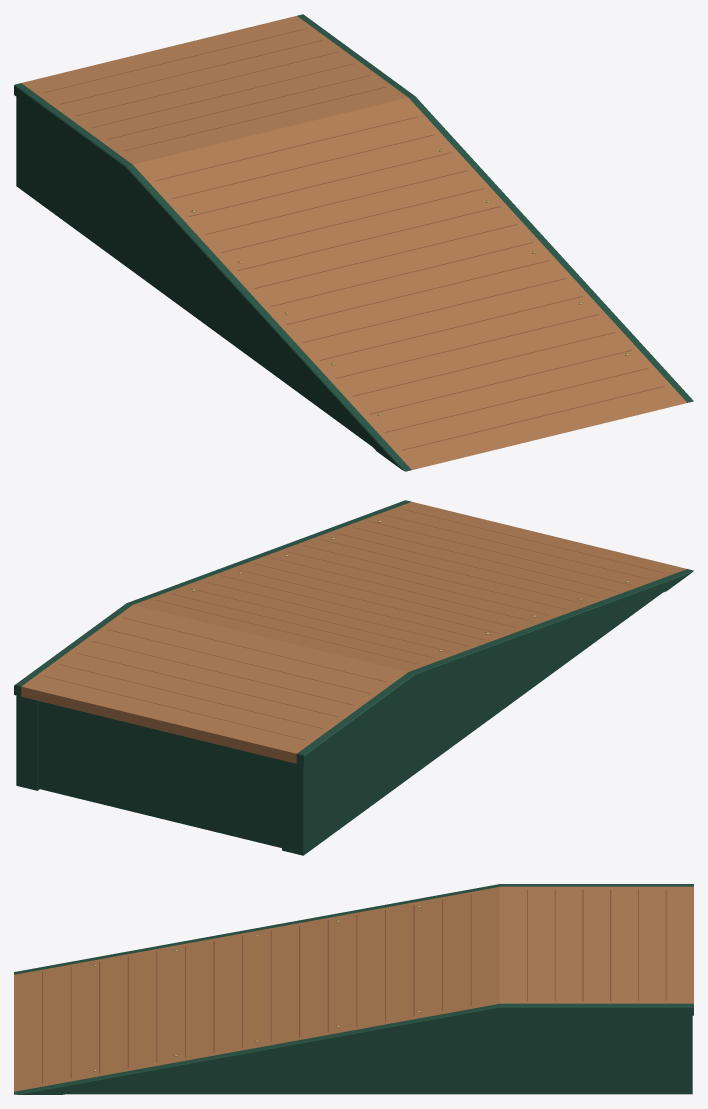
The model's file is ramp-deck.glb.
The picture shows the model from 3 angles, top to bottom: view 1: azimuth 30°, elevation 25°; view 2: azimuth 150°, elevation 25°; view 3: azimuth 270°, elevation 25°; orthographic projection. The views are drawn at different scales.
Visible parts, largest first — view 1: Ramp_Continuous_Teak_Top, RampFrame, Deck_Continuous_Teak_Top; view 2: RampFrame, Ramp_Continuous_Teak_Top, Deck_Continuous_Teak_Top; view 3: Ramp_Continuous_Teak_Top, RampFrame, Deck_Continuous_Teak_Top.
Boxes of the visible parts, bbox=[...] form: Ramp_Continuous_Teak_Top: bbox=[133, 97, 686, 469]; RampFrame: bbox=[14, 14, 693, 471]; Deck_Continuous_Teak_Top: bbox=[21, 16, 407, 164]; RampFrame: bbox=[14, 500, 693, 855]; Ramp_Continuous_Teak_Top: bbox=[133, 502, 686, 671]; Deck_Continuous_Teak_Top: bbox=[21, 605, 407, 763]; Ramp_Continuous_Teak_Top: bbox=[14, 887, 499, 1091]; RampFrame: bbox=[14, 884, 693, 1094]; Deck_Continuous_Teak_Top: bbox=[499, 886, 693, 1003].
Bounding box in the file's own units: 3 × 1 × 7.
